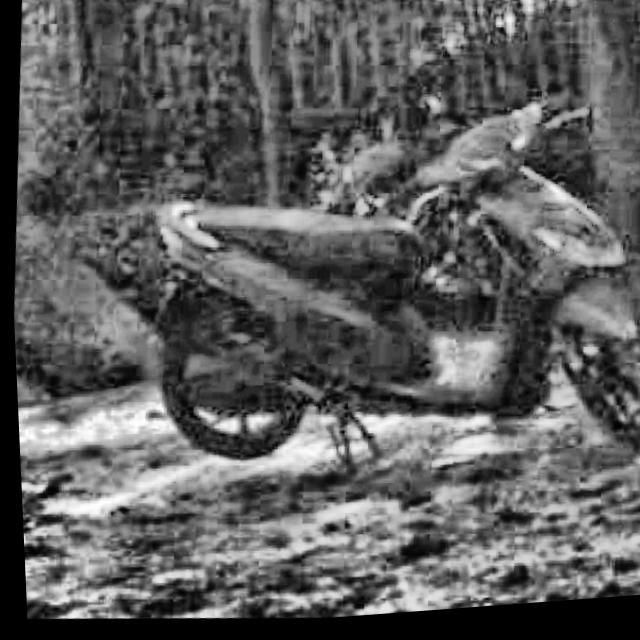motorcycle: (122, 50, 640, 514)
